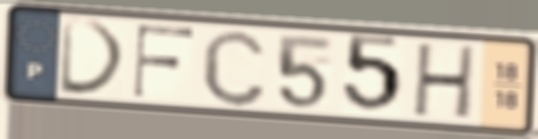5: (340, 32, 406, 120), (275, 32, 337, 111)
C: (199, 26, 269, 109)
D: (56, 15, 130, 98)
F: (129, 22, 198, 101)
H: (409, 41, 480, 123)
